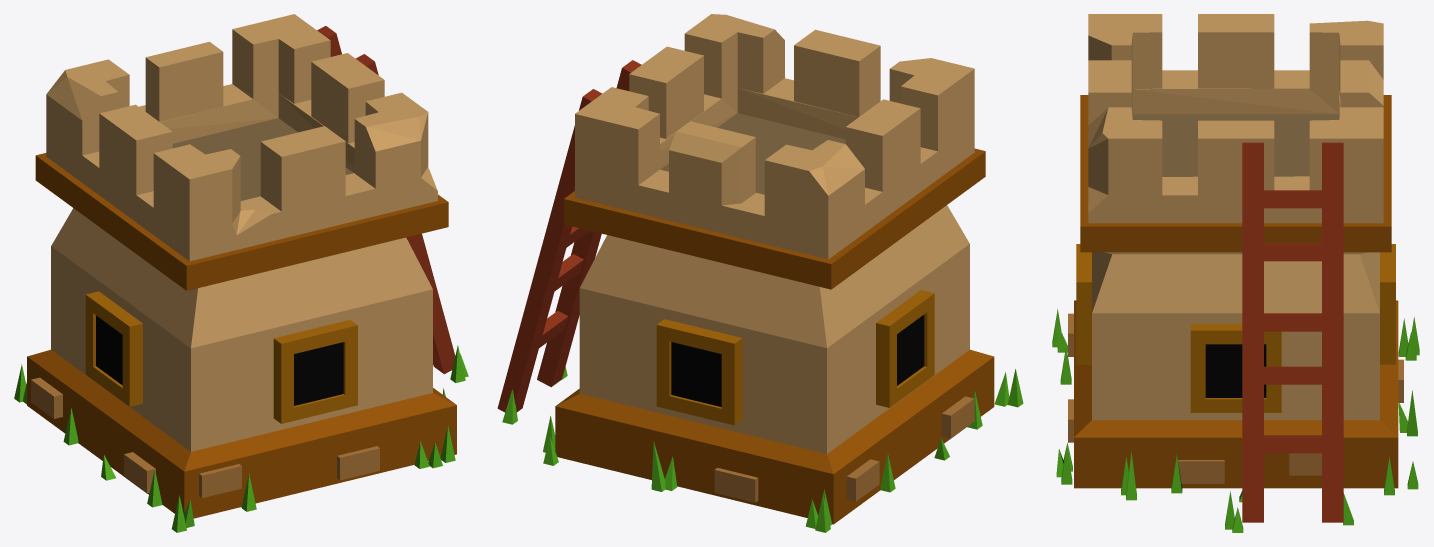
3 views of the same model, side by side, from view 1: azimuth 30°, elevation 25°; view 2: azimuth 150°, elevation 25°; view 3: azimuth 270°, elevation 25° (orthographic). The views are drawn at different scales.
Visible parts, largest first — view 1: base_1; view 2: base_1; view 3: base_1.
Part boxes in pixels (bbox=[...]): base_1: bbox=[14, 14, 468, 532]; base_1: bbox=[497, 14, 1023, 532]; base_1: bbox=[1052, 14, 1419, 532].
Bounding box in the file's own units: 474 × 398 × 386.
